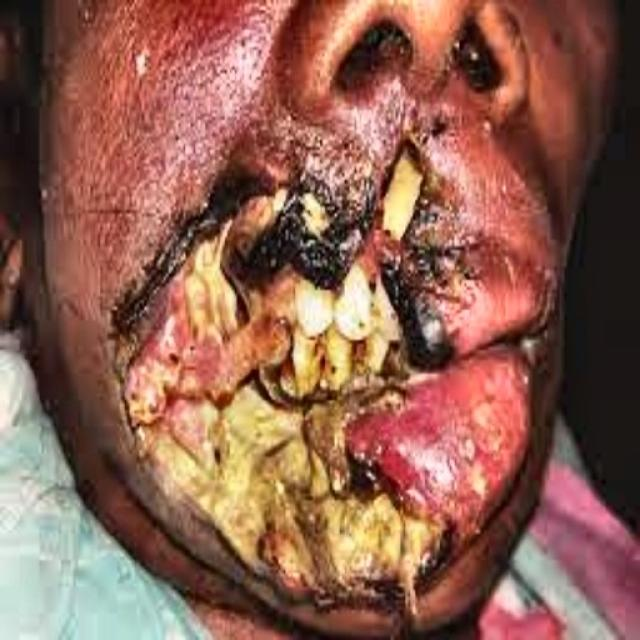cancer-detection: (120, 121, 563, 616)
processing_area: (88, 109, 569, 628)
